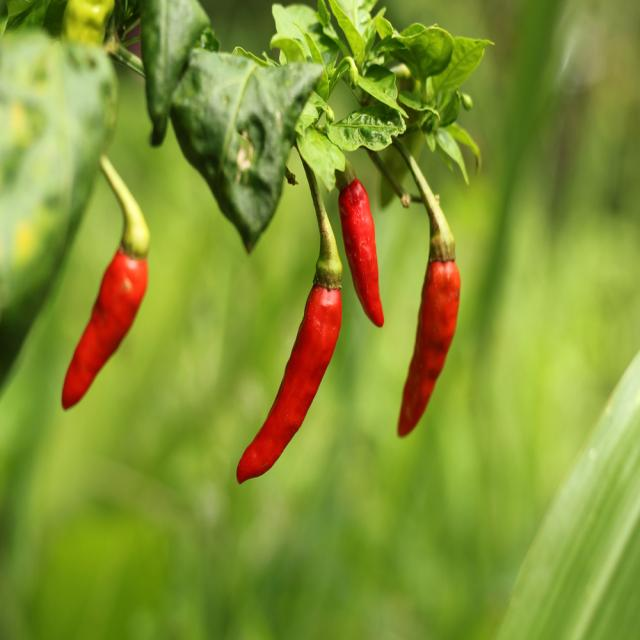Ripe: (236, 285, 341, 484), (62, 249, 148, 408), (398, 260, 460, 436), (339, 178, 384, 325)
Unripe: (62, 0, 114, 45)
